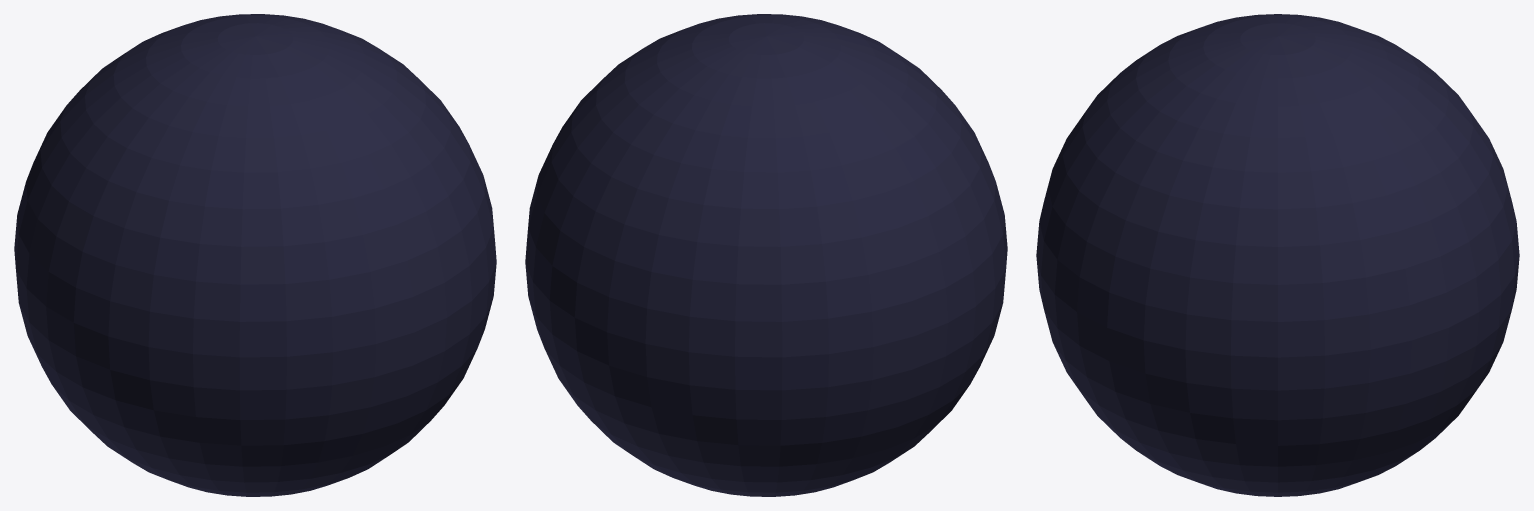
The model's file is celestial_dome.obj.
3 renders of one model, left to right at view 1: azimuth 30°, elevation 25°; view 2: azimuth 150°, elevation 25°; view 3: azimuth 270°, elevation 25°, orthographic.
Visible parts, largest first — view 1: CelestialDome; view 2: CelestialDome; view 3: CelestialDome.
Boxes of the visible parts, <box> form: CelestialDome: <box>14,14,496,496</box>; CelestialDome: <box>525,14,1007,496</box>; CelestialDome: <box>1036,14,1519,496</box>.
Size of the model in its own units: 560 by 560 by 560.
